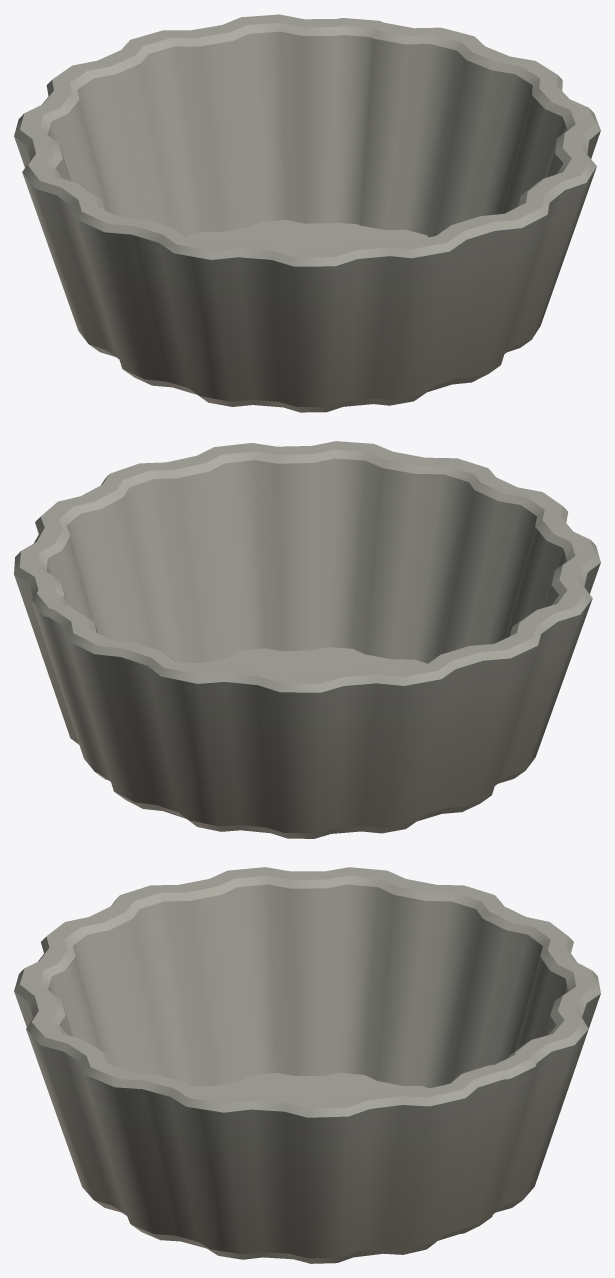
The model's file is Cake_Tin.glb.
3 views of the same model, one above another, from view 1: azimuth 30°, elevation 25°; view 2: azimuth 150°, elevation 25°; view 3: azimuth 270°, elevation 25° (orthographic).
Parts seen in each view (by area): view 1: Cake_Tin; view 2: Cake_Tin; view 3: Cake_Tin.
Boxes of the visible parts, box(x1,y1,x2,y2) form: Cake_Tin: box(14, 14, 600, 412); Cake_Tin: box(14, 441, 600, 838); Cake_Tin: box(14, 867, 600, 1263).
Bounding box in the file's own units: 0.4305 × 0.1485 × 0.4329.
Materials: 1 (1 with a texture image).
